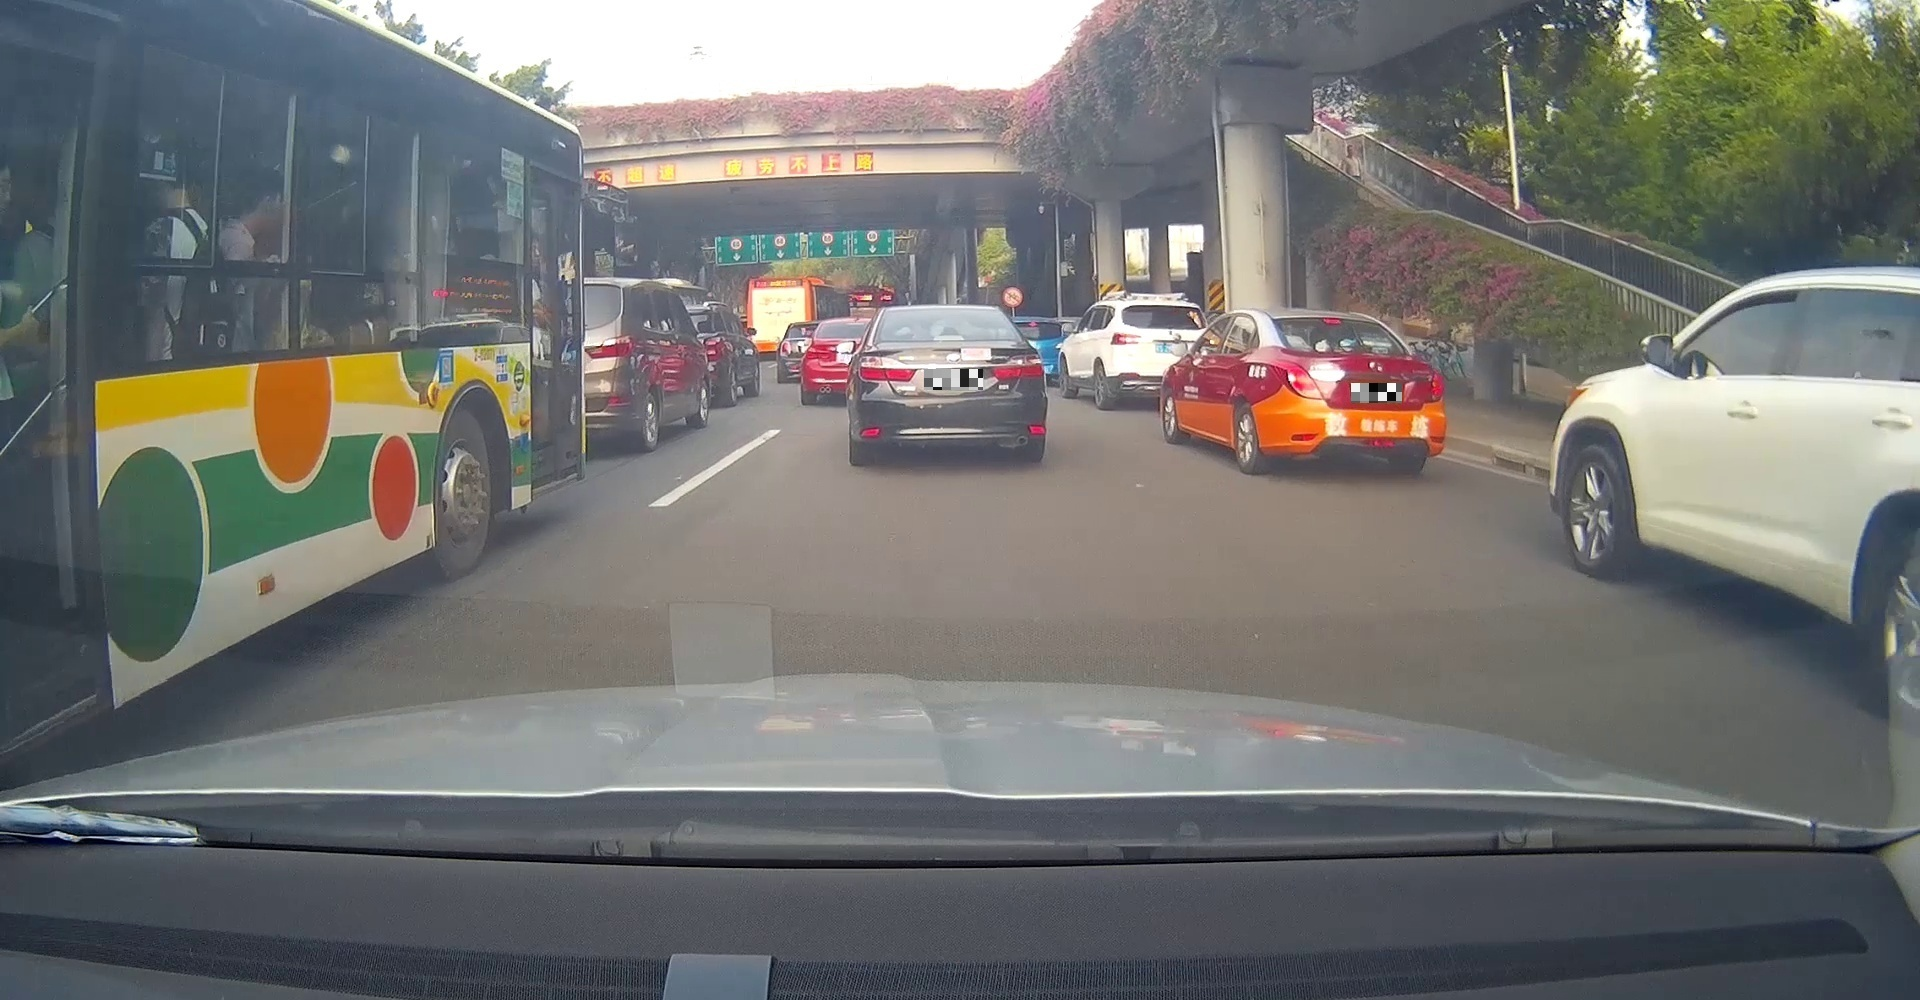L_light: (1269, 358, 1323, 400), (858, 357, 917, 382)
R_light: (990, 353, 1045, 379), (1423, 367, 1445, 402)
T_light: (933, 335, 964, 340), (1322, 319, 1341, 324)
day-brake: (1260, 308, 1448, 473)
day-no: (850, 305, 1048, 466)
plate_1: (924, 369, 983, 390)
plate_2: (1351, 383, 1402, 404)
